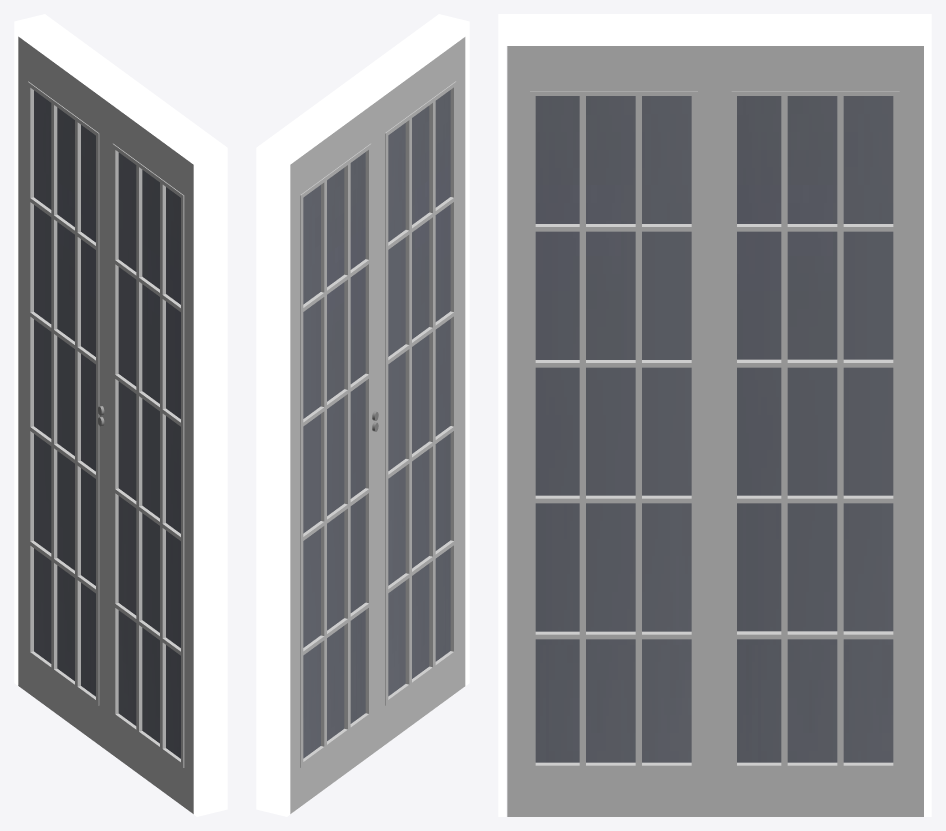
The model's file is 15_lite_double_door_walkin.2b83713b.gltf.
3 views of the same model, side by side, from view 1: azimuth 30°, elevation 25°; view 2: azimuth 150°, elevation 25°; view 3: azimuth 270°, elevation 25° (orthographic). The views are drawn at different scales.
Visible parts, largest first — view 1: glass, trim, door, inside_door_trim; view 2: glass, trim, door, inside_door_trim; view 3: glass, door, inside_door_trim, trim.
Part boxes in pixels (box(x1,y1,x2,y2)): glass: box(34, 90, 180, 758); trim: box(14, 14, 227, 816); door: box(18, 36, 193, 813); inside_door_trim: box(27, 81, 184, 767); glass: box(303, 90, 450, 758); trim: box(256, 14, 469, 816); door: box(290, 37, 465, 813); inside_door_trim: box(300, 81, 456, 767); glass: box(535, 96, 893, 762); door: box(507, 46, 923, 816); inside_door_trim: box(530, 91, 899, 770); trim: box(498, 14, 931, 816).
Size of the model in its own units: 0.3103 by 6 by 3.
Materials: 5 (1 with a texture image).
